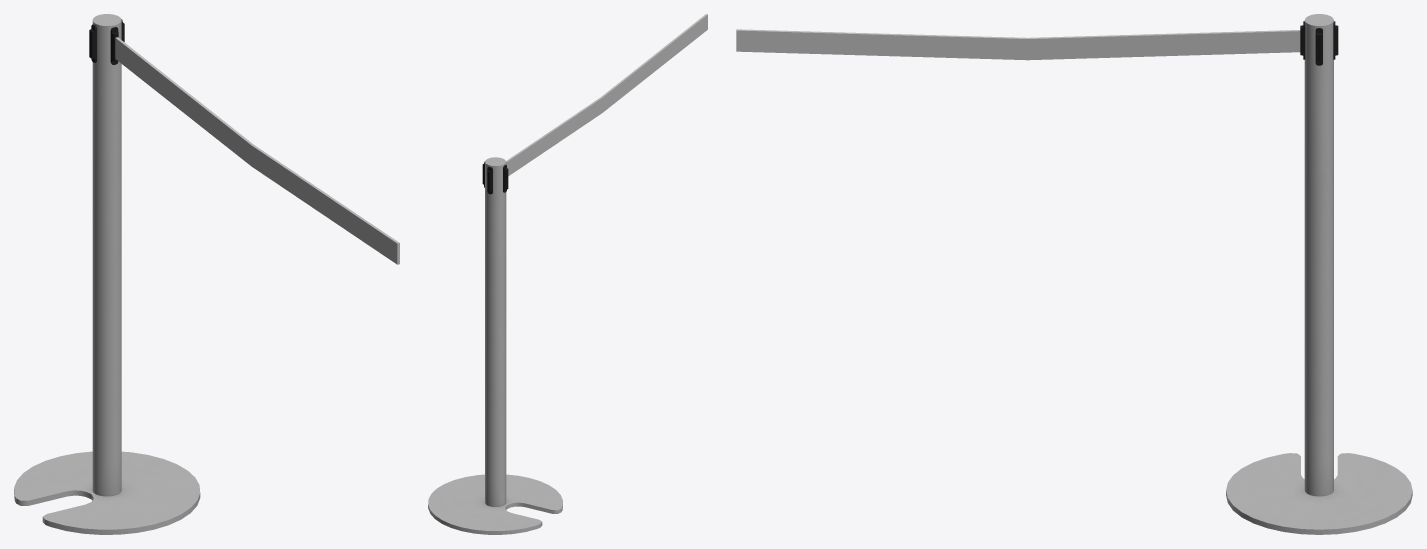
Rendered from SM_LineBarrier_01_100.fbx.
3 views of the same model, side by side, from view 1: azimuth 30°, elevation 25°; view 2: azimuth 150°, elevation 25°; view 3: azimuth 270°, elevation 25° (orthographic). The views are drawn at different scales.
Parts seen in each view (by area): view 1: SM_LineBarrier_01_100_LOD0; view 2: SM_LineBarrier_01_100_LOD0; view 3: SM_LineBarrier_01_100_LOD0.
Boxes of the visible parts, <box> form: SM_LineBarrier_01_100_LOD0: <box>14,14,399,534</box>; SM_LineBarrier_01_100_LOD0: <box>428,14,707,534</box>; SM_LineBarrier_01_100_LOD0: <box>736,14,1412,534</box>.
Bounding box in the file's own units: 31.11 × 116 × 90.
